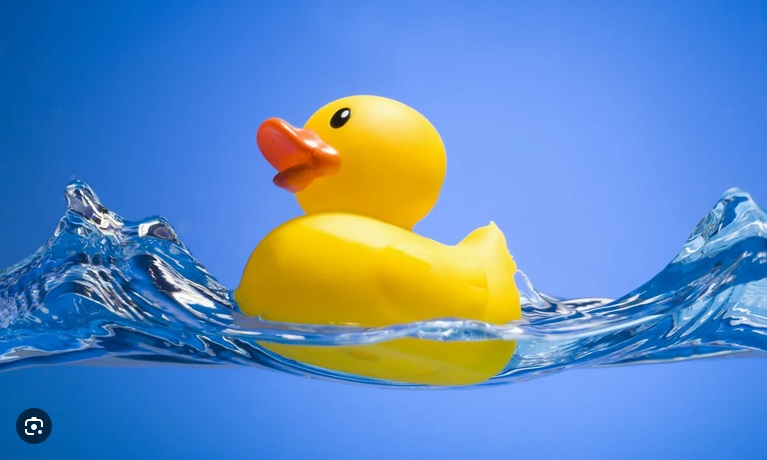duck_regular: (233, 92, 526, 390)
